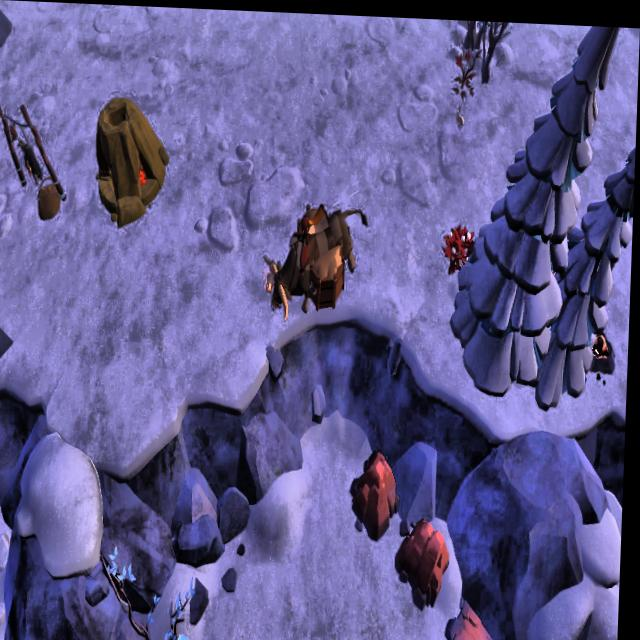fiber_t5: (440, 218, 481, 272)
rock_t5: (395, 512, 456, 600), (354, 440, 403, 534)
